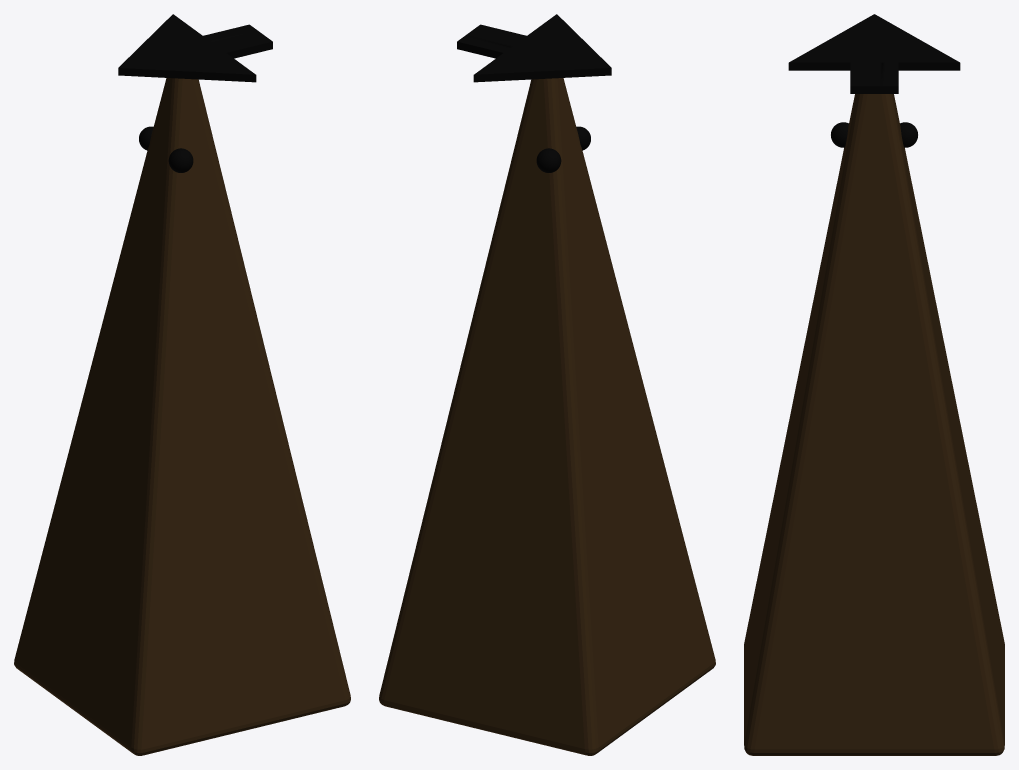
File: tbrown.obj
3 renders of one model, left to right at view 1: azimuth 30°, elevation 25°; view 2: azimuth 150°, elevation 25°; view 3: azimuth 270°, elevation 25°, orthographic. The views are drawn at different scales.
Parts seen in each view (by area): view 1: Cube.019_Cube.007; view 2: Cube.019_Cube.007; view 3: Cube.019_Cube.007.
Part boxes in pixels (<box>): Cube.019_Cube.007: <box>14,14,350,755</box>; Cube.019_Cube.007: <box>379,14,715,755</box>; Cube.019_Cube.007: <box>744,14,1004,755</box>.
Size of the model in its own units: 0.1762 by 0.4901 by 0.1762.
